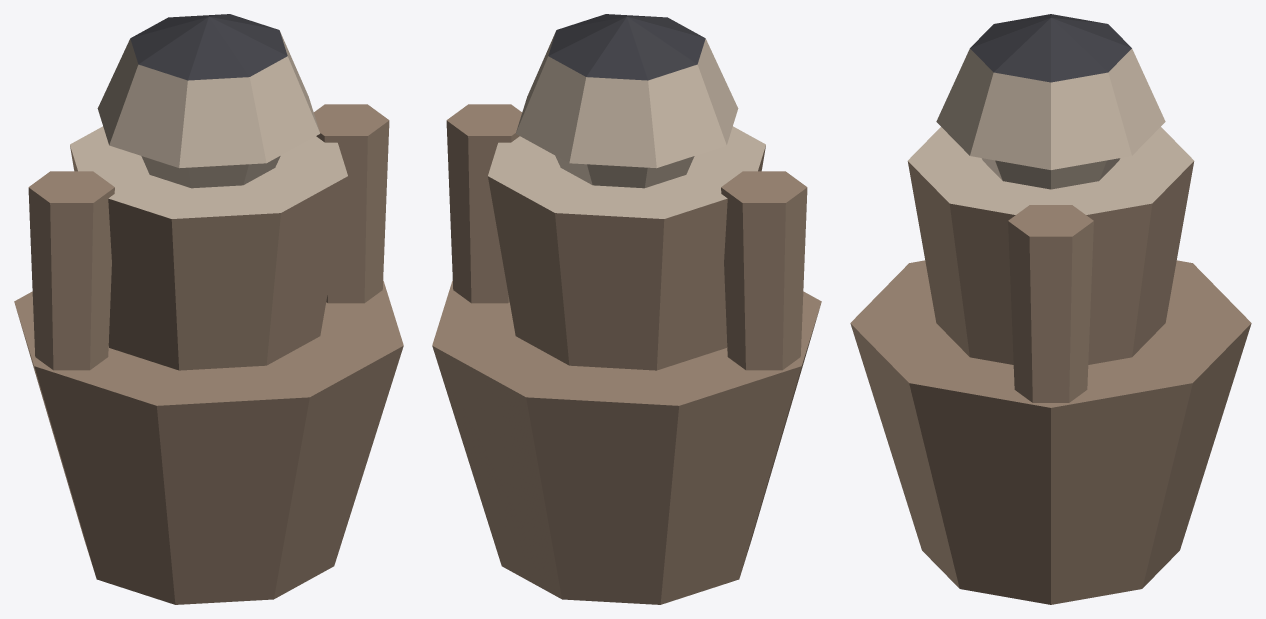
The model's file is follower_novice.glb.
The picture shows the model from 3 angles, left to right: view 1: azimuth 30°, elevation 25°; view 2: azimuth 150°, elevation 25°; view 3: azimuth 270°, elevation 25°; orthographic projection.
Parts seen in each view (by area): view 1: Follower; view 2: Follower; view 3: Follower.
Part boxes in pixels (x1=…): Follower: x1=14, y1=14, x2=403, y2=604; Follower: x1=432, y1=14, x2=821, y2=604; Follower: x1=850, y1=14, x2=1251, y2=604.
Bounding box in the file's own units: 0.56 × 0.82 × 0.56.
